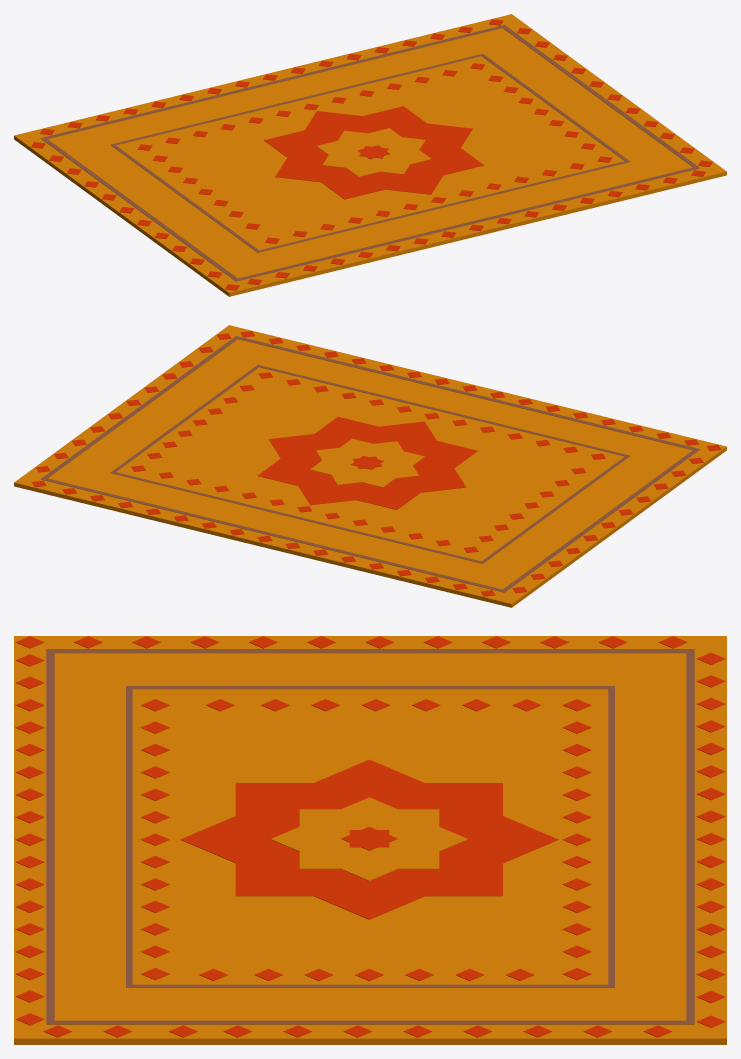
The model's file is f7cc5f7a-3e2b-4eed-b915-cd45d2b48c1b.glb.
3 renders of one model, top to bottom at view 1: azimuth 30°, elevation 25°; view 2: azimuth 150°, elevation 25°; view 3: azimuth 270°, elevation 25°, orthographic. The views are drawn at different scales.
Parts seen in each view (by area): view 1: Box212, Box188, Box190, Box191, Box127; view 2: Box212, Box188, Box190, Box191, Box127; view 3: Box212, Box188, Box190, Box191, Box127.
Boxes of the visible parts, bbox=[...] form: Box212: bbox=[14, 14, 726, 296]; Box188: bbox=[275, 111, 472, 194]; Box190: bbox=[264, 106, 484, 199]; Box191: bbox=[322, 130, 425, 174]; Box127: bbox=[316, 128, 431, 176]; Box212: bbox=[14, 325, 726, 607]; Box188: bbox=[268, 421, 466, 505]; Box190: bbox=[257, 416, 477, 509]; Box191: bbox=[316, 441, 418, 484]; Box127: bbox=[310, 438, 424, 487]; Box212: bbox=[14, 636, 726, 1044]; Box188: bbox=[180, 759, 558, 919]; Box190: bbox=[235, 783, 502, 896]; Box191: bbox=[270, 797, 467, 880]; Box127: bbox=[299, 809, 439, 868].
Size of the model in its own units: 449715 by 4057 by 336669.
